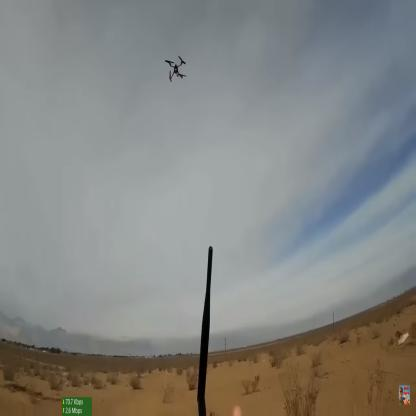drone: (162, 52, 189, 88)
